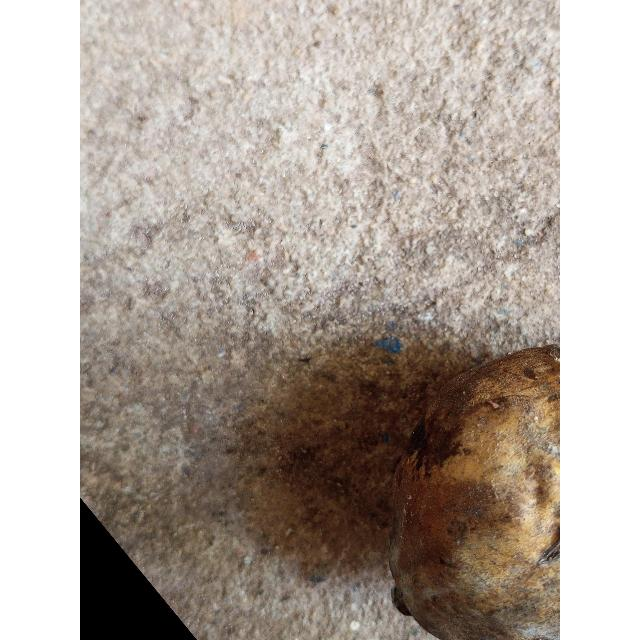damaged: (390, 344, 560, 640)
